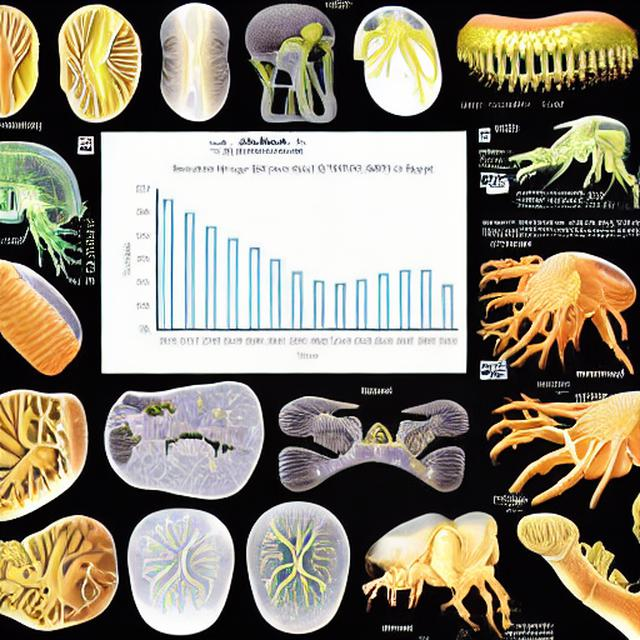Graph: (112, 160, 465, 366)
